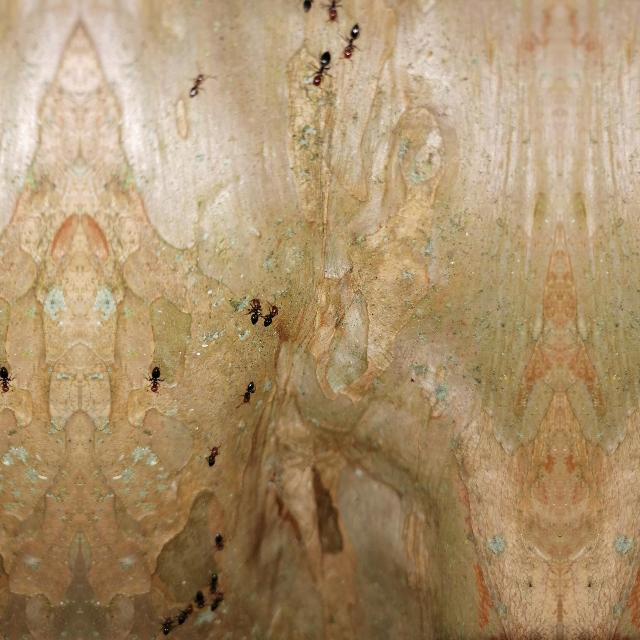Crematogaster: (304, 50, 336, 90), (342, 21, 372, 59), (144, 363, 164, 397), (0, 363, 16, 397), (246, 296, 262, 328), (322, 0, 342, 22), (240, 382, 256, 408), (180, 600, 196, 626), (266, 304, 282, 328), (192, 588, 210, 608), (207, 447, 221, 468), (210, 592, 224, 612), (160, 612, 174, 632), (208, 570, 218, 594), (212, 534, 224, 550)
Lasius: (185, 70, 205, 102)
